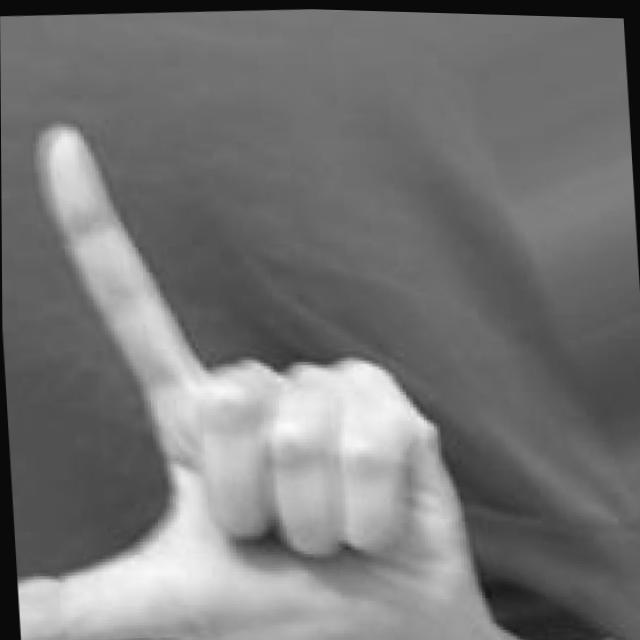L: (1, 95, 533, 640)
